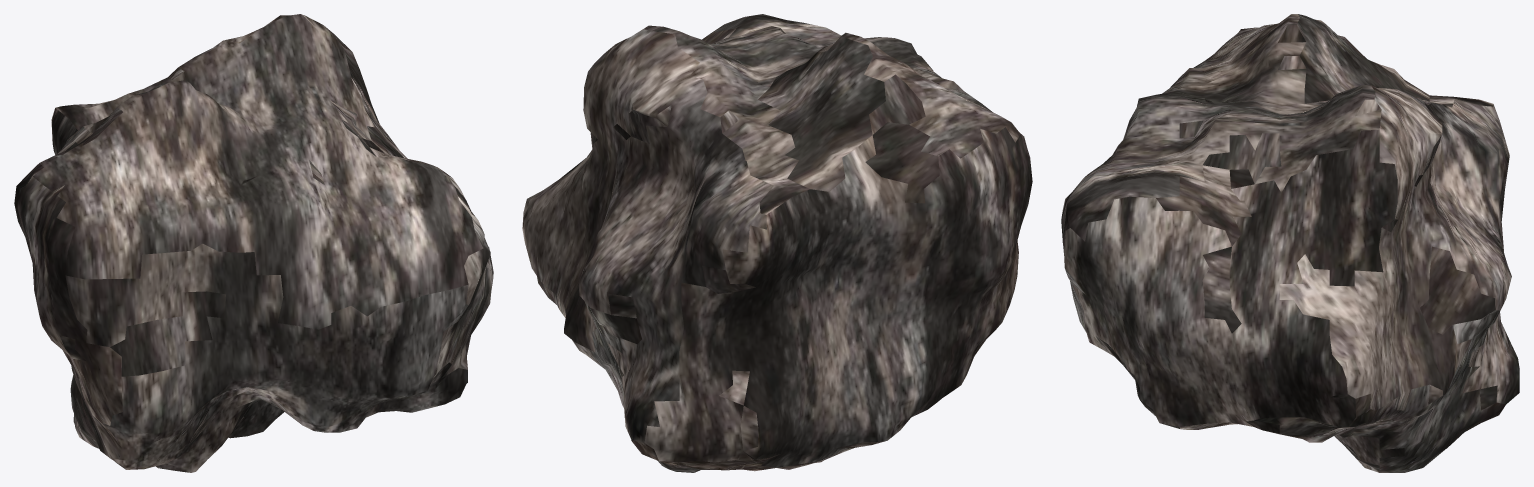
Rendered from Asteroid.fbx.
3 renders of one model, left to right at view 1: azimuth 30°, elevation 25°; view 2: azimuth 150°, elevation 25°; view 3: azimuth 270°, elevation 25°, orthographic. The views are drawn at different scales.
Visible parts, largest first — view 1: Cube.001; view 2: Cube.001; view 3: Cube.001.
Boxes of the visible parts, x1,y1,x2,y2 form: Cube.001: [14, 14, 493, 472]; Cube.001: [522, 14, 1032, 472]; Cube.001: [1061, 14, 1519, 472].
Bounding box in the file's own units: 378 × 333 × 348.
Materials: 1 (1 with a texture image).
